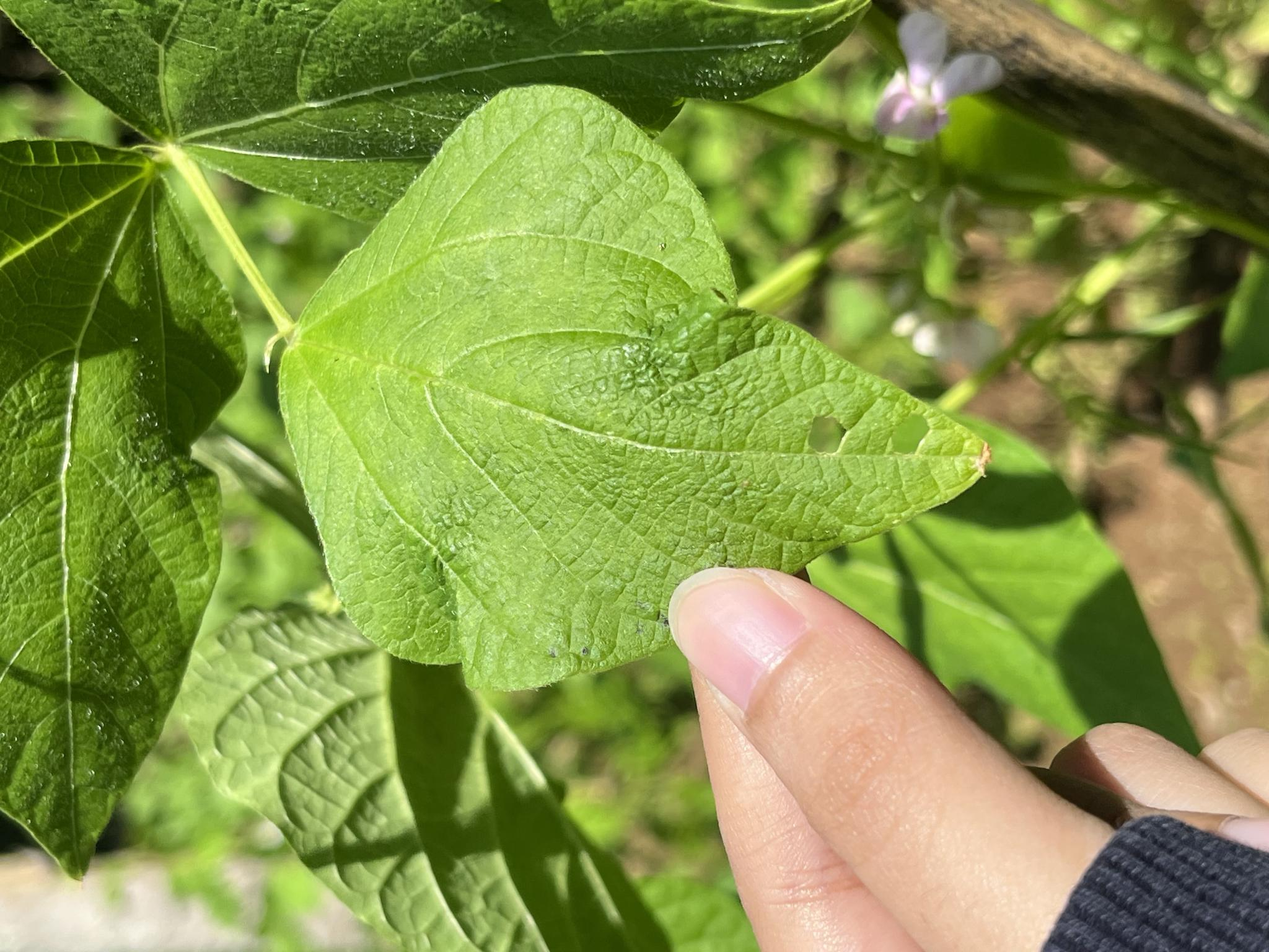sehat: (275, 87, 967, 682)
